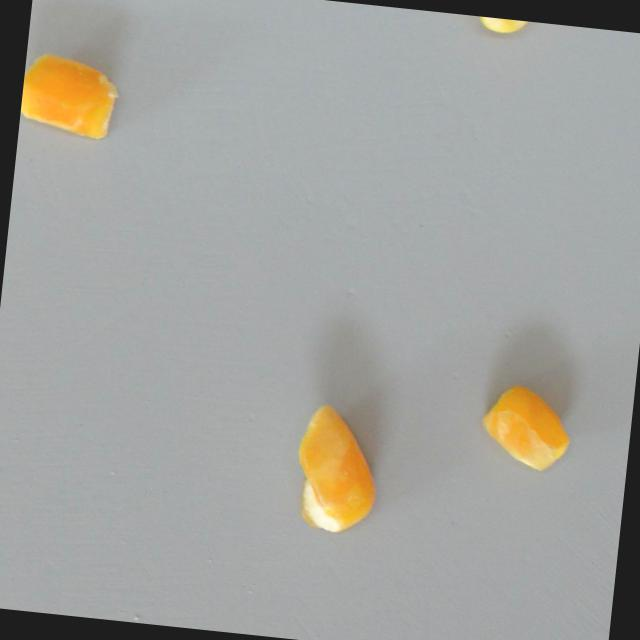estandar: (18, 48, 121, 139)
pelicula: (288, 398, 385, 535), (476, 377, 573, 476), (465, 14, 571, 40)
